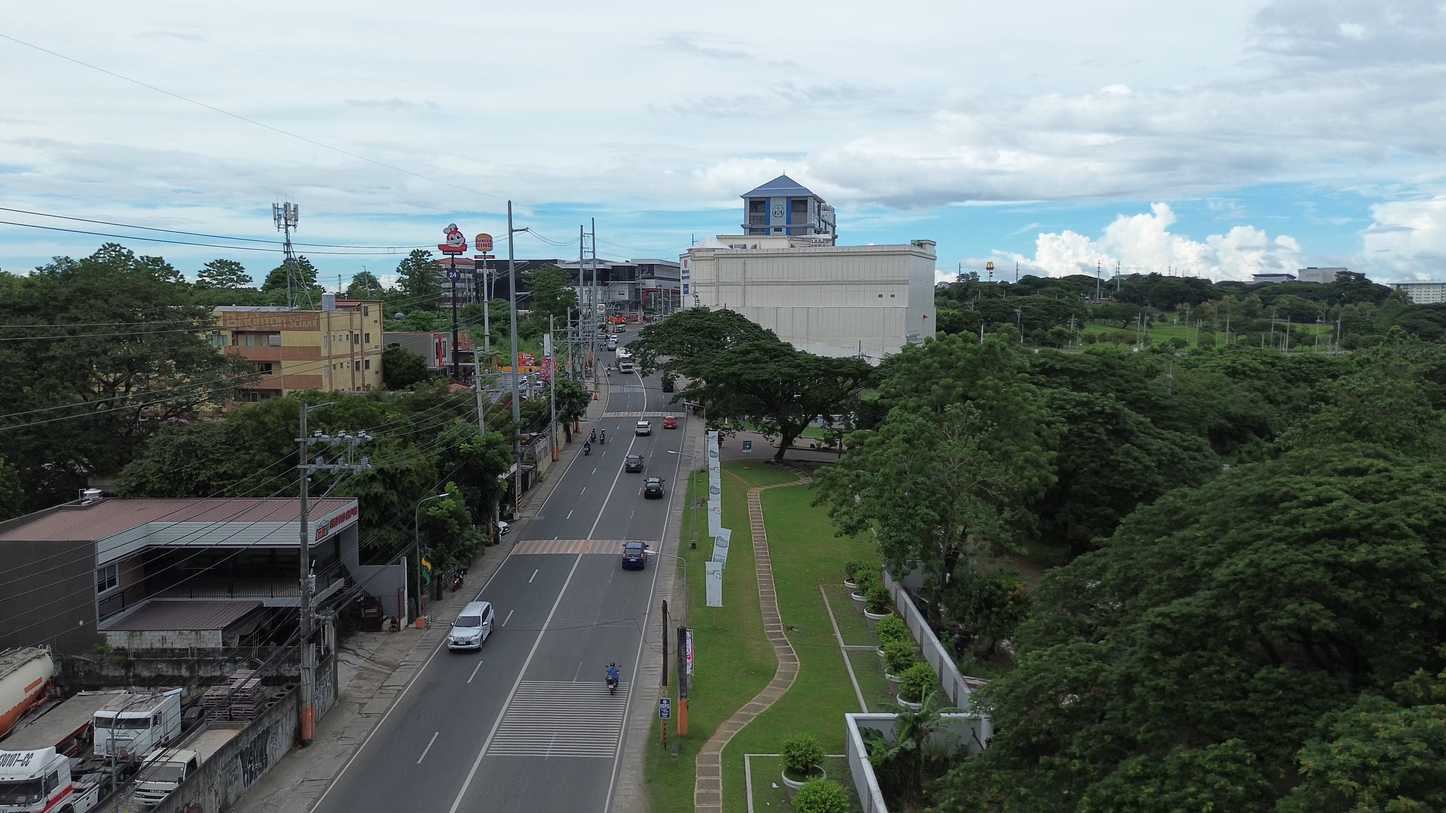car: (622, 541, 647, 569), (624, 454, 644, 472), (635, 420, 651, 435), (662, 415, 677, 429), (615, 324, 625, 333)
motorcycle: (583, 442, 591, 455)
truck: (134, 722, 244, 807)
vehicle: (0, 748, 101, 813), (93, 689, 181, 761), (0, 647, 54, 737), (134, 749, 200, 807), (447, 602, 493, 649), (643, 477, 664, 498), (618, 350, 635, 373), (661, 377, 675, 392), (496, 520, 509, 536), (607, 336, 618, 350)
